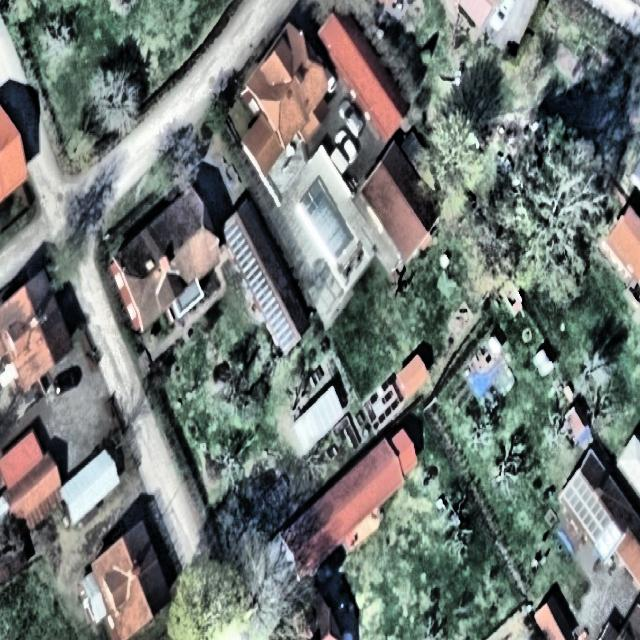roof_pv: (562, 472, 612, 543), (248, 240, 270, 328), (270, 290, 296, 356), (224, 217, 246, 280)
